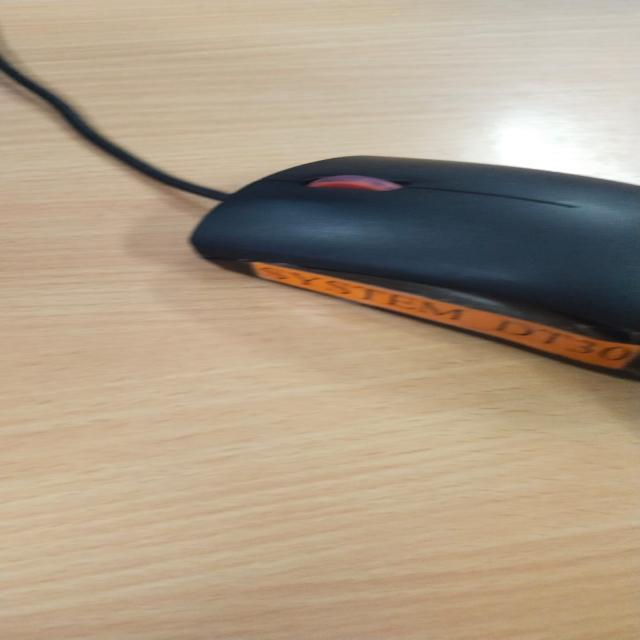Mouse: (23, 102, 640, 640), (457, 105, 563, 298)
